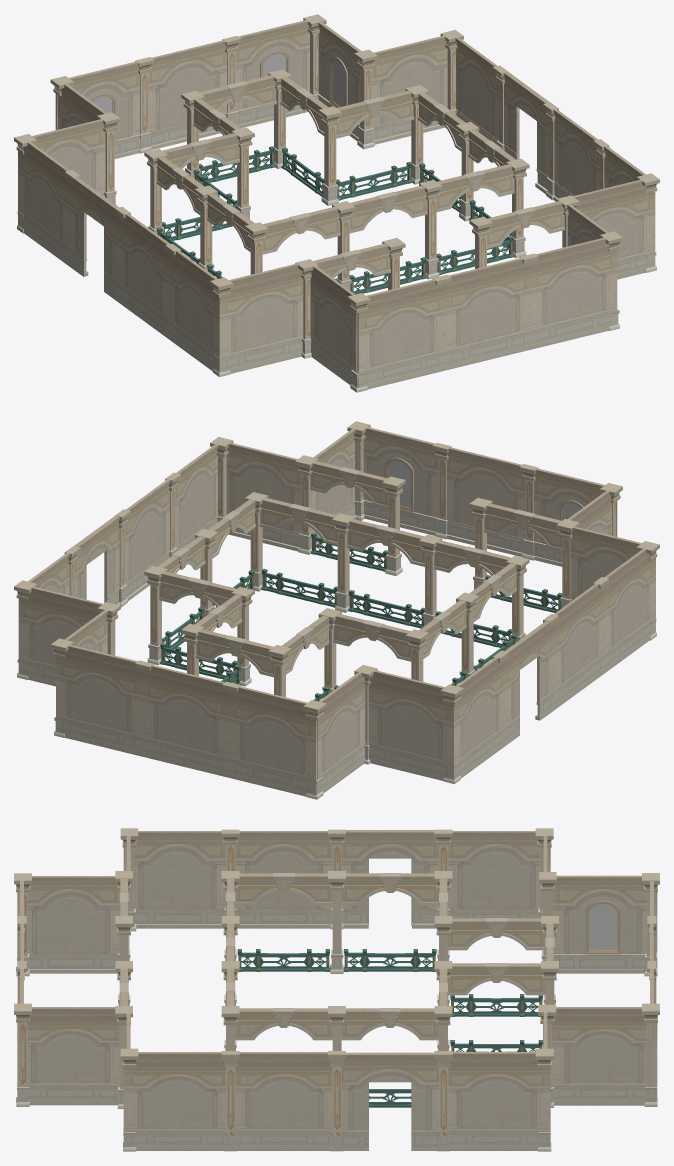
File: Homeworld_Interior_Fd_Room_D_Wall_01_Vo.fbx
3 views of the same model, one above another, from view 1: azimuth 30°, elevation 25°; view 2: azimuth 150°, elevation 25°; view 3: azimuth 270°, elevation 25° (orthographic). The views are drawn at different scales.
Parts seen in each view (by area): view 1: Homeworld_Interior_Fd_Room_D_Filling_01_Vo, Homeworld_Interior_Fd_Room_Wall_05_Vo (×14), Homeworld_Interior_Fd_Room_Wall_01_Vo (×7), Homeworld_Interior_Fd_Room_Pillar_01_Vo (×20), Homeworld_Interior_Fd_Room_Wall_02_Vo (×4), Homeworld_Interior_Fd_Room_Wall_06_Vo (×2), Homeworld_Interior_Fd_Room_Pillar_02_Vo (×4); view 2: Homeworld_Interior_Fd_Room_D_Filling_01_Vo, Homeworld_Interior_Fd_Room_Wall_05_Vo (×14), Homeworld_Interior_Fd_Room_Wall_01_Vo (×8), Homeworld_Interior_Fd_Room_Pillar_01_Vo (×20), Homeworld_Interior_Fd_Room_Wall_02_Vo (×4), Homeworld_Interior_Fd_Room_Wall_06_Vo (×2), Homeworld_Interior_Fd_Room_Pillar_02_Vo (×4); view 3: Homeworld_Interior_Fd_Room_D_Filling_01_Vo, Homeworld_Interior_Fd_Room_Wall_01_Vo (×8), Homeworld_Interior_Fd_Room_Wall_05_Vo (×6), Homeworld_Interior_Fd_Room_Pillar_01_Vo (×18), Homeworld_Interior_Fd_Room_Wall_06_Vo (×2), Homeworld_Interior_Fd_Room_Wall_02_Vo (×2), Homeworld_Interior_Fd_Room_Pillar_02_Vo (×6).
Part boxes in pixels (bbox=[...]): Homeworld_Interior_Fd_Room_D_Filling_01_Vo: bbox=[18, 88, 655, 389]; Homeworld_Interior_Fd_Room_Wall_05_Vo (×14): bbox=[156, 75, 564, 294]; Homeworld_Interior_Fd_Room_Wall_01_Vo (×7): bbox=[32, 35, 645, 246]; Homeworld_Interior_Fd_Room_Pillar_01_Vo (×20): bbox=[97, 14, 529, 392]; Homeworld_Interior_Fd_Room_Wall_02_Vo (×4): bbox=[56, 20, 436, 373]; Homeworld_Interior_Fd_Room_Wall_06_Vo (×2): bbox=[72, 72, 549, 276]; Homeworld_Interior_Fd_Room_Pillar_02_Vo (×4): bbox=[135, 36, 558, 200]; Homeworld_Interior_Fd_Room_D_Filling_01_Vo: bbox=[18, 495, 655, 796]; Homeworld_Interior_Fd_Room_Wall_05_Vo (×14): bbox=[158, 461, 562, 701]; Homeworld_Interior_Fd_Room_Wall_01_Vo (×8): bbox=[28, 429, 641, 688]; Homeworld_Interior_Fd_Room_Pillar_01_Vo (×20): bbox=[97, 421, 579, 764]; Homeworld_Interior_Fd_Room_Wall_02_Vo (×4): bbox=[64, 427, 617, 780]; Homeworld_Interior_Fd_Room_Wall_06_Vo (×2): bbox=[74, 516, 550, 720]; Homeworld_Interior_Fd_Room_Pillar_02_Vo (×4): bbox=[115, 443, 538, 607]; Homeworld_Interior_Fd_Room_D_Filling_01_Vo: bbox=[17, 847, 657, 1150]; Homeworld_Interior_Fd_Room_Wall_01_Vo (×8): bbox=[17, 831, 549, 1058]; Homeworld_Interior_Fd_Room_Wall_05_Vo (×6): bbox=[235, 873, 545, 1107]; Homeworld_Interior_Fd_Room_Pillar_01_Vo (×18): bbox=[14, 828, 659, 1151]; Homeworld_Interior_Fd_Room_Wall_06_Vo (×2): bbox=[341, 830, 438, 1150]; Homeworld_Interior_Fd_Room_Wall_02_Vo (×2): bbox=[552, 875, 656, 1013]; Homeworld_Interior_Fd_Room_Pillar_02_Vo (×6): bbox=[221, 829, 452, 1151].
Size of what is drawn, in the model's own units: 25.35 by 5.01 by 30.35.
